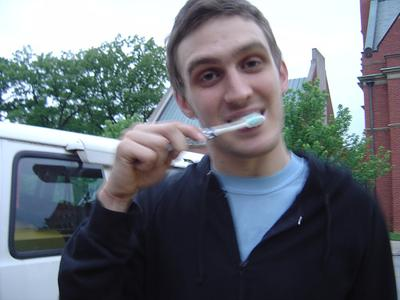person: (59, 2, 399, 300)
